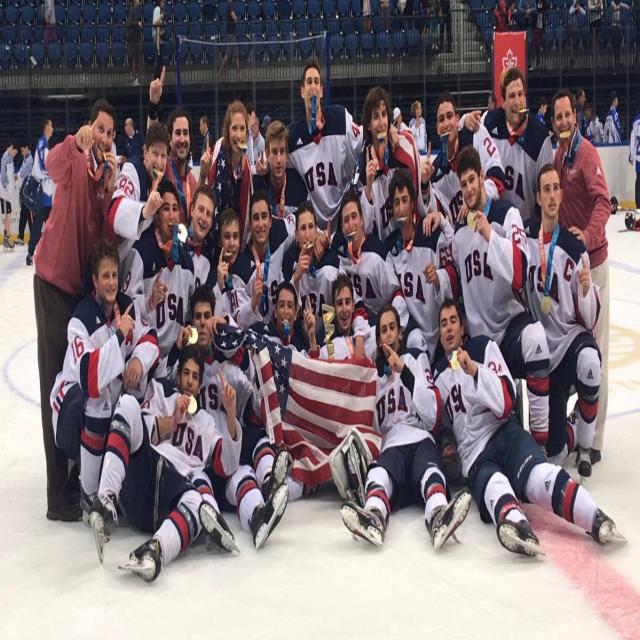body: (425, 295, 617, 557), (148, 282, 290, 554), (31, 97, 118, 526), (91, 342, 243, 582), (48, 236, 162, 532), (448, 142, 552, 466), (339, 303, 472, 550), (254, 54, 402, 241), (521, 161, 603, 476), (550, 87, 612, 467), (384, 163, 462, 367), (456, 65, 554, 224), (119, 179, 197, 368), (318, 187, 411, 342), (230, 188, 325, 329), (421, 90, 507, 226), (351, 85, 423, 246), (190, 98, 256, 256), (281, 199, 348, 350), (146, 65, 197, 232), (106, 119, 170, 244), (248, 119, 309, 222), (203, 206, 253, 319), (246, 278, 311, 354), (176, 181, 218, 294), (26, 118, 55, 266), (314, 271, 355, 350), (13, 138, 36, 245), (217, 0, 242, 82), (0, 136, 18, 248), (121, 0, 143, 88), (627, 112, 640, 210), (610, 0, 629, 67), (493, 0, 511, 68), (568, 0, 586, 66), (408, 99, 428, 155), (122, 117, 146, 163), (603, 90, 623, 144), (42, 0, 58, 67), (587, 0, 603, 67), (389, 107, 423, 138), (152, 0, 165, 81), (396, 0, 414, 57), (531, 0, 545, 70), (250, 116, 266, 166), (418, 3, 434, 50), (572, 87, 586, 138), (580, 101, 595, 146), (199, 114, 214, 156), (517, 0, 538, 29), (589, 106, 605, 144), (110, 128, 122, 178), (359, 0, 372, 46), (439, 0, 450, 52), (377, 0, 389, 46), (246, 105, 255, 166), (632, 0, 640, 67), (535, 94, 549, 128), (505, 0, 518, 32), (261, 113, 270, 140), (486, 92, 497, 110), (436, 3, 443, 18), (571, 93, 577, 108)
